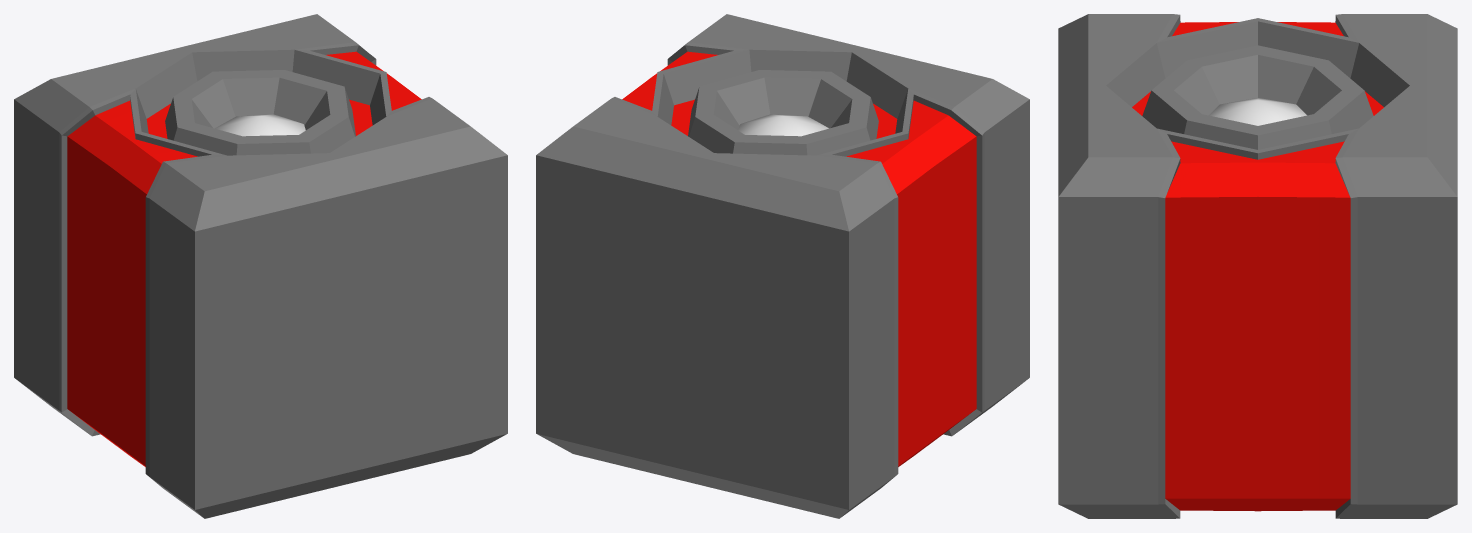
File: Laser_Reciver.fbx
3 renders of one model, left to right at view 1: azimuth 30°, elevation 25°; view 2: azimuth 150°, elevation 25°; view 3: azimuth 270°, elevation 25°, orthographic. The views are drawn at different scales.
Visible parts, largest first — view 1: Tile_Base, Color_Line, Laser_Reciever; view 2: Tile_Base, Color_Line, Laser_Reciever; view 3: Tile_Base, Color_Line, Laser_Reciever.
Boxes of the visible parts, x1,y1,x2,y2 form: Tile_Base: (14,14,507,518); Color_Line: (67,51,421,466); Laser_Reciever: (215,114,305,136); Tile_Base: (536,14,1029,518); Color_Line: (622,51,976,466); Laser_Reciever: (738,114,828,136); Tile_Base: (1058,14,1457,518); Color_Line: (1132,22,1383,511); Laser_Reciever: (1209,98,1306,125).
Size of the model in its own units: 40.17 by 40 by 40.
